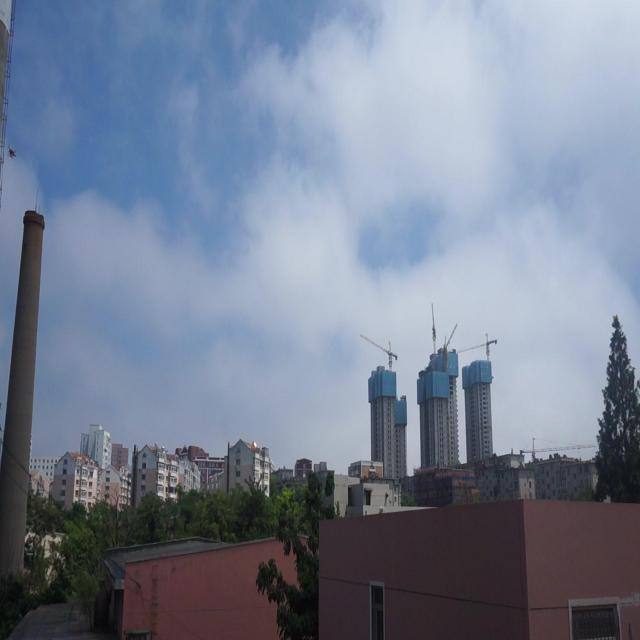UAV: (8, 143, 18, 160)
